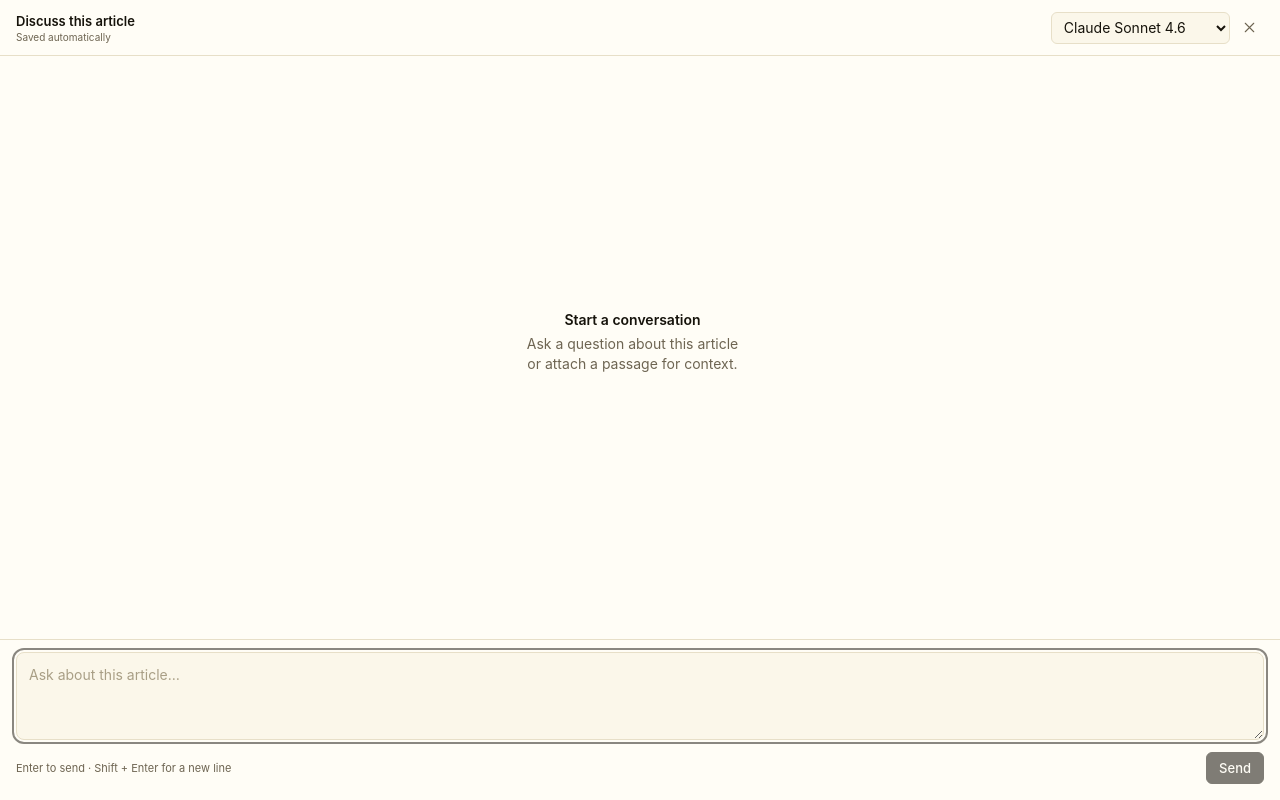
ChatPanel › renders deltas incrementally then the final message
Expected: the text "Start a conversation" is shown, [564,310,701,328]
Expected: the dropdown named "AI model" shows "Claude Sonnet 4.6", [1051,12,1230,44]
In the text box: {"x": 640, "y": 696} [16,652,1264,740], type "hi"
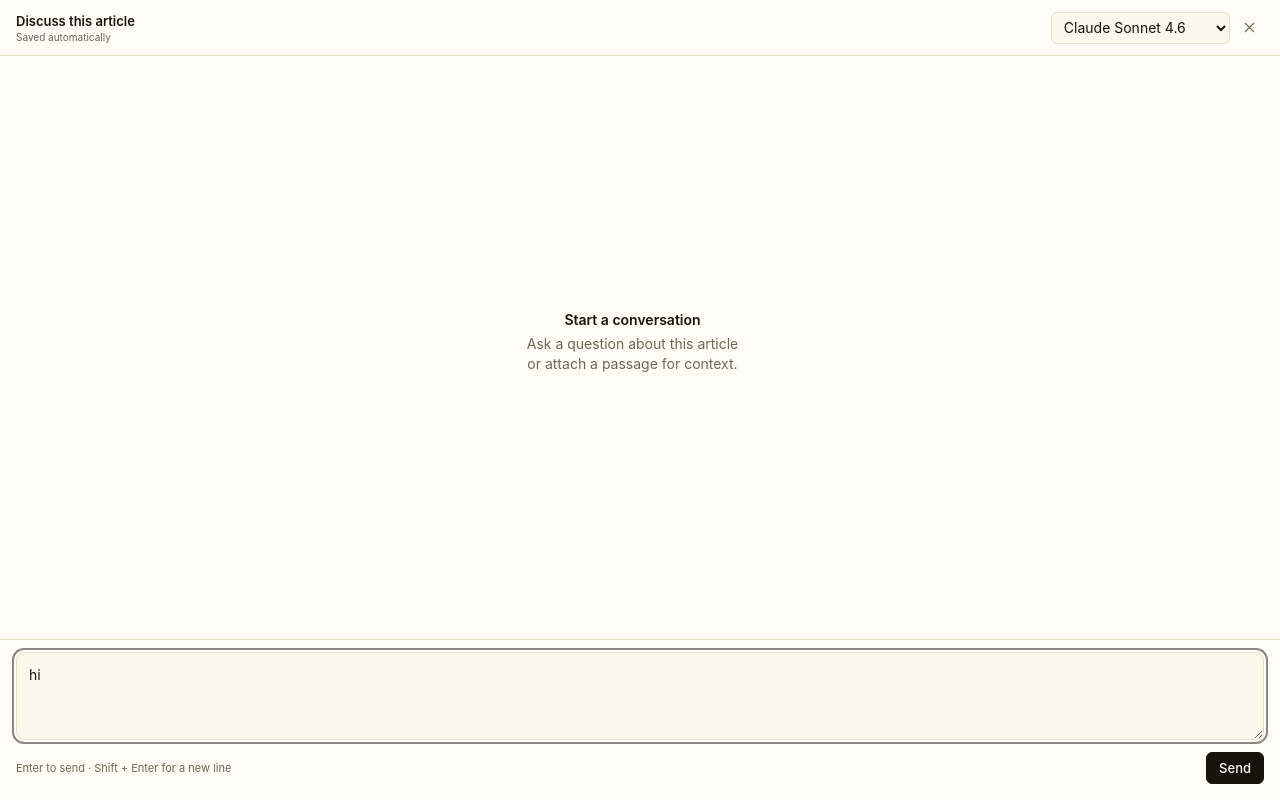
Click the button "Send": {"x": 1235, "y": 768} [1206,752,1264,784]
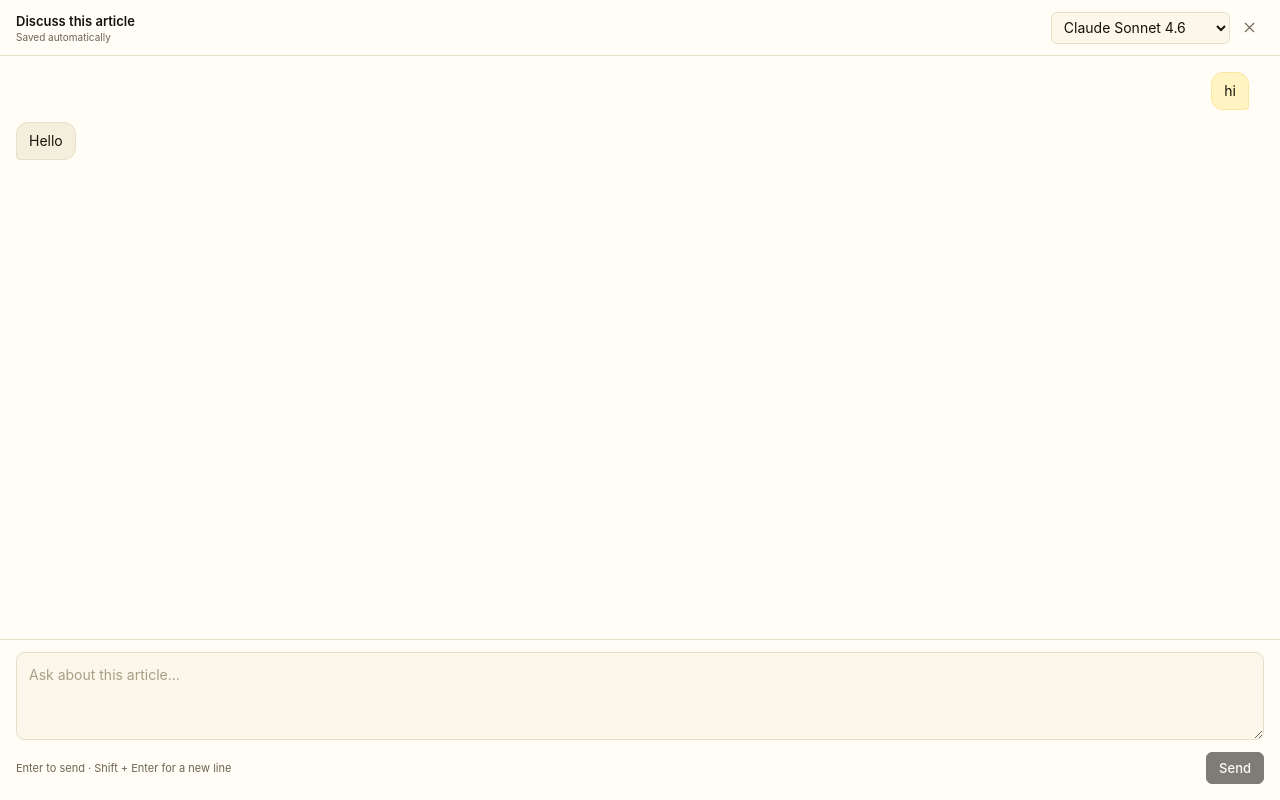
Now the text "Hello" is shown, box [29,131,63,151]
